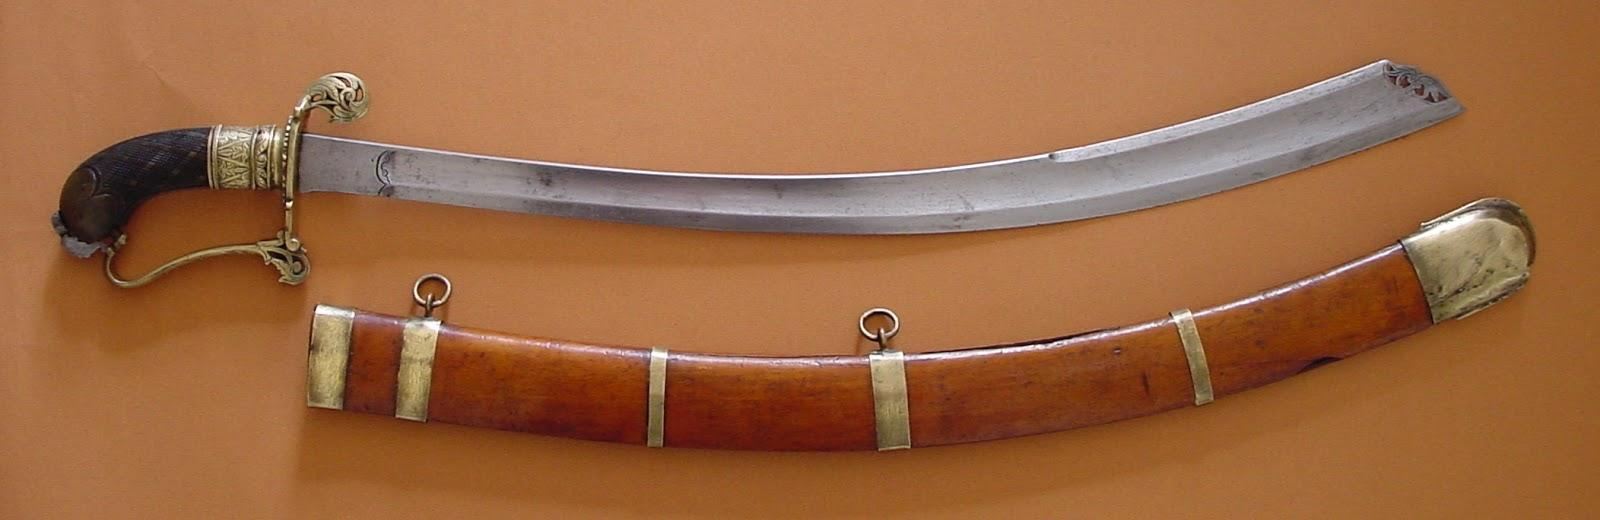espada: (12, 10, 1470, 273), (289, 243, 1600, 447)
